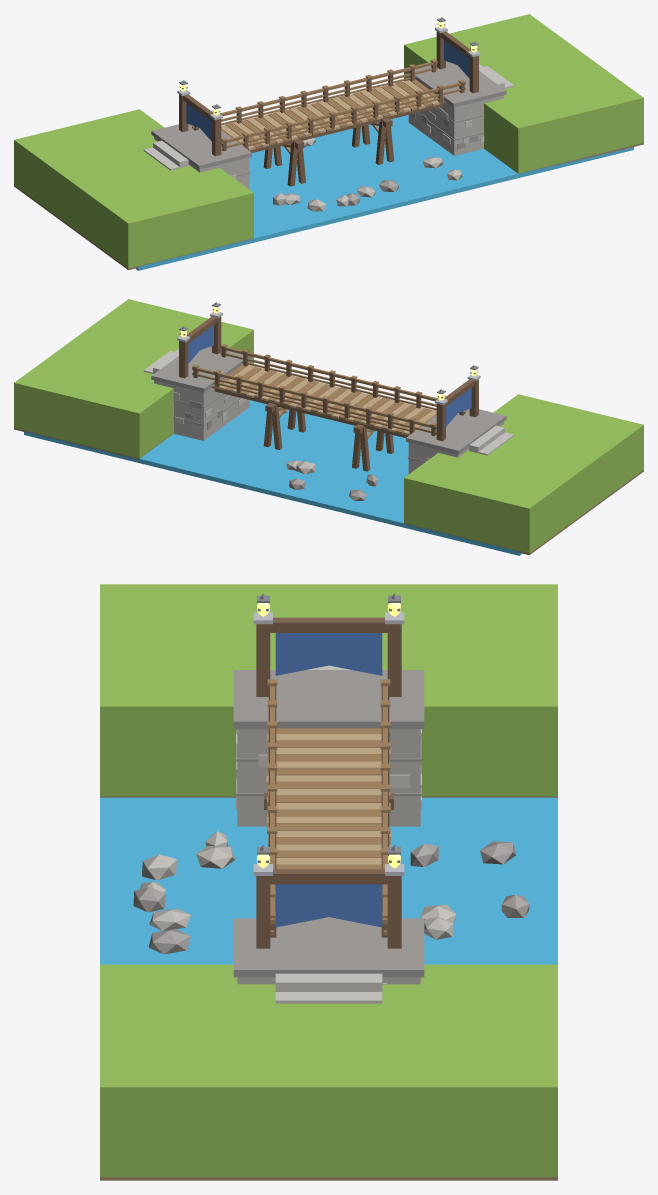
File: Building_Bridge.glb
3 renders of one model, top to bottom at view 1: azimuth 30°, elevation 25°; view 2: azimuth 150°, elevation 25°; view 3: azimuth 270°, elevation 25°, orthographic. The views are drawn at different scales.
Visible parts, largest first — view 1: Bridge; view 2: Bridge; view 3: Bridge.
Part boxes in pixels (x1=…): Bridge: x1=14, y1=14, x2=643, y2=270; Bridge: x1=14, y1=299, x2=643, y2=555; Bridge: x1=100, y1=584, x2=557, y2=1180.
Bounding box in the file's own units: 31.2 × 6.35 × 12.
